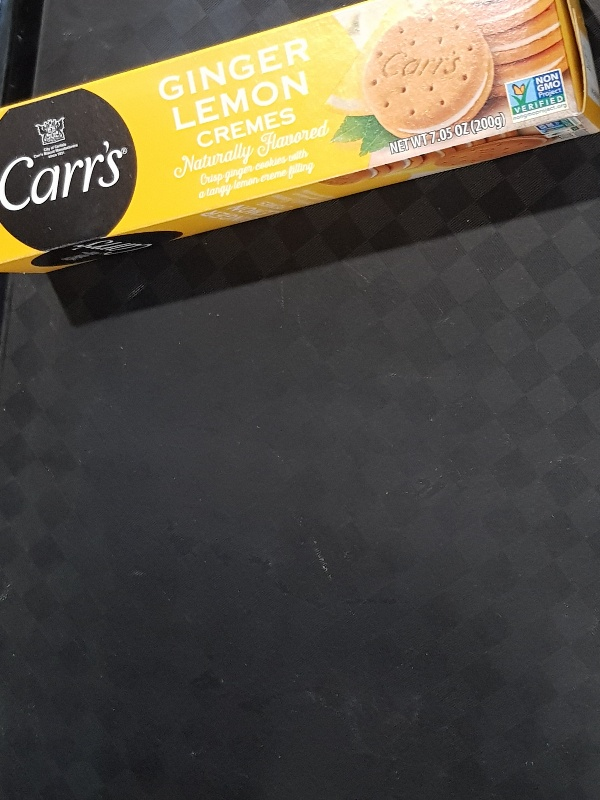Carr's Ginger Lemon Cremes: (1, 1, 600, 276)
